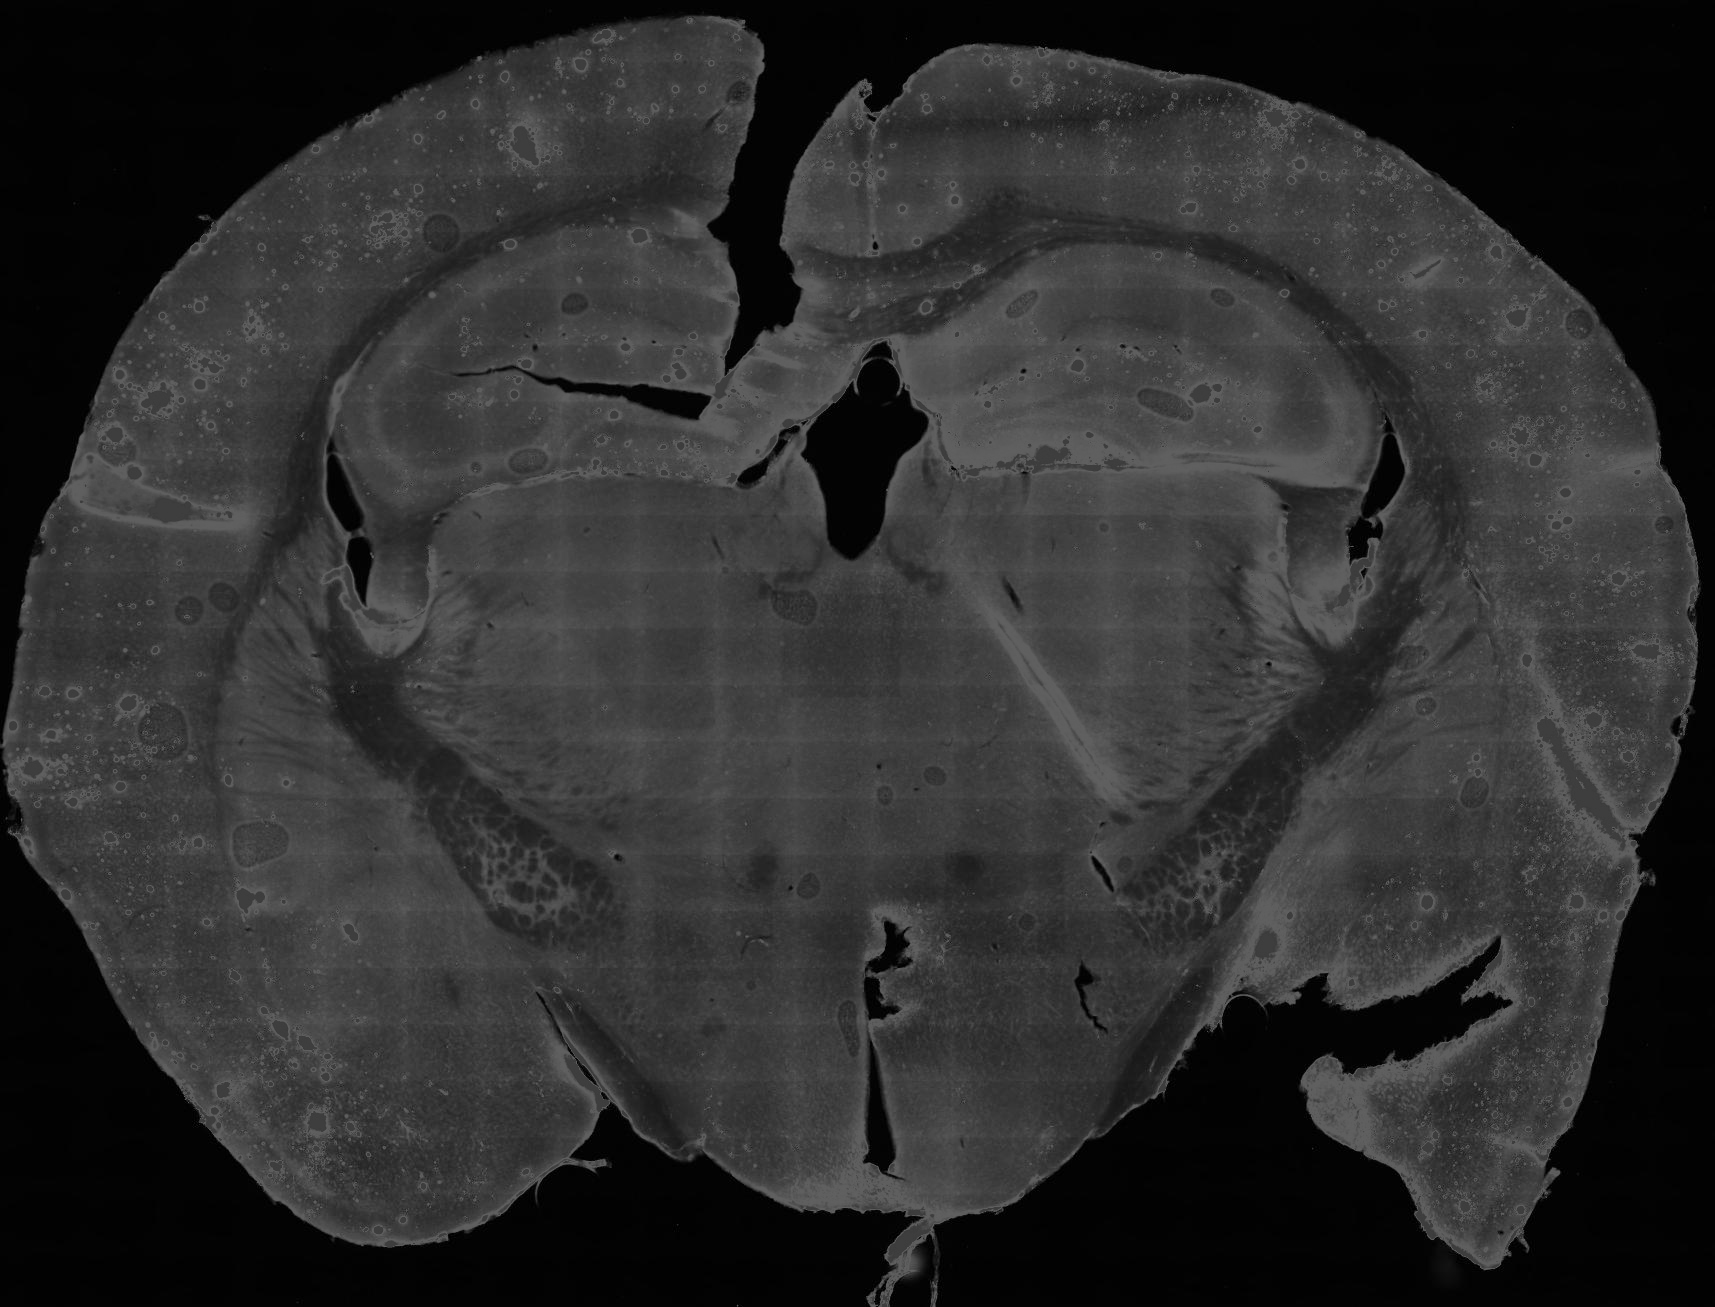Cerebral nuclei: (217, 512, 362, 918), (1355, 498, 1505, 853)
Hippocampal formation: (336, 227, 871, 505), (887, 244, 1373, 486)
Hypothalamus: (862, 754, 1250, 1218), (538, 822, 877, 1216)
Retrosplenial area: (875, 58, 978, 259), (783, 77, 875, 259)
Somatosensory area: (34, 45, 577, 577), (1147, 71, 1679, 538)
Thalamus: (849, 415, 1321, 870), (402, 421, 861, 879)
